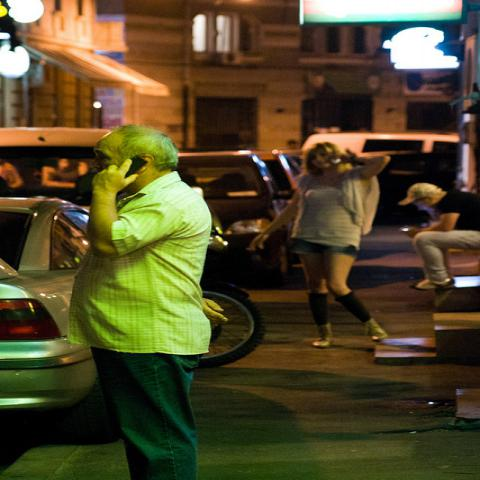car: (2, 198, 125, 444), (183, 150, 286, 288), (0, 128, 113, 211), (376, 152, 456, 199), (251, 150, 305, 208), (302, 134, 462, 151)
motorcycle: (199, 281, 268, 369)
truck: (0, 123, 114, 206)
